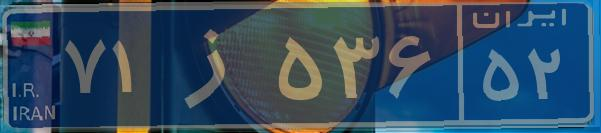1: (110, 28, 158, 105)
2: (525, 38, 570, 115)
3: (330, 28, 385, 110)
5: (273, 28, 330, 110), (475, 38, 525, 113)
6: (385, 28, 445, 110)
7: (57, 26, 110, 107)
ز: (158, 15, 273, 115)
